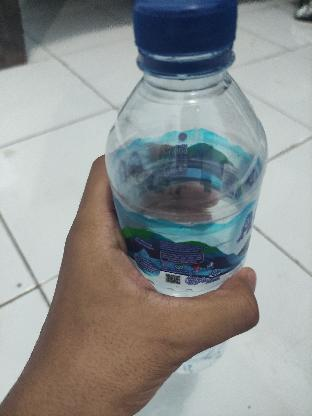Plastic Bottle: (98, 0, 274, 376)
